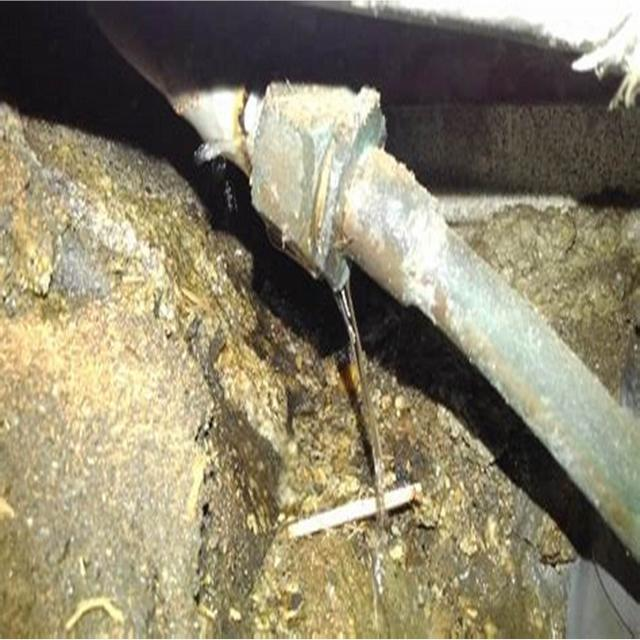leak: (334, 280, 385, 520)
